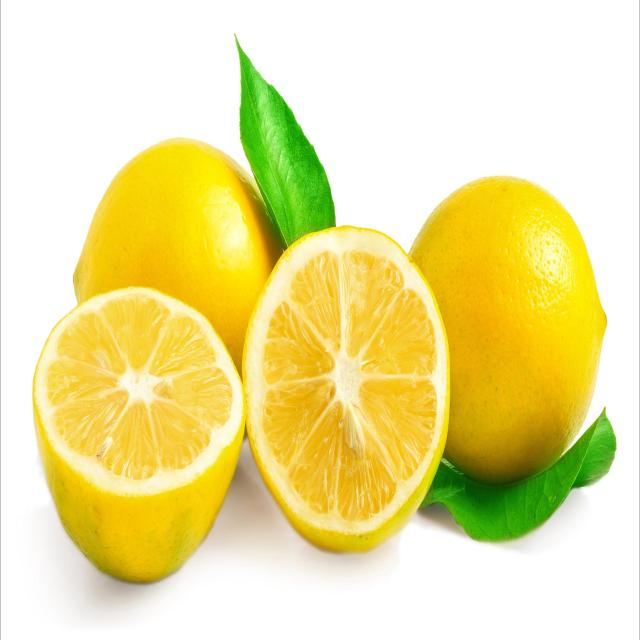lemon: (238, 218, 456, 557), (396, 170, 611, 494), (27, 280, 250, 588)
